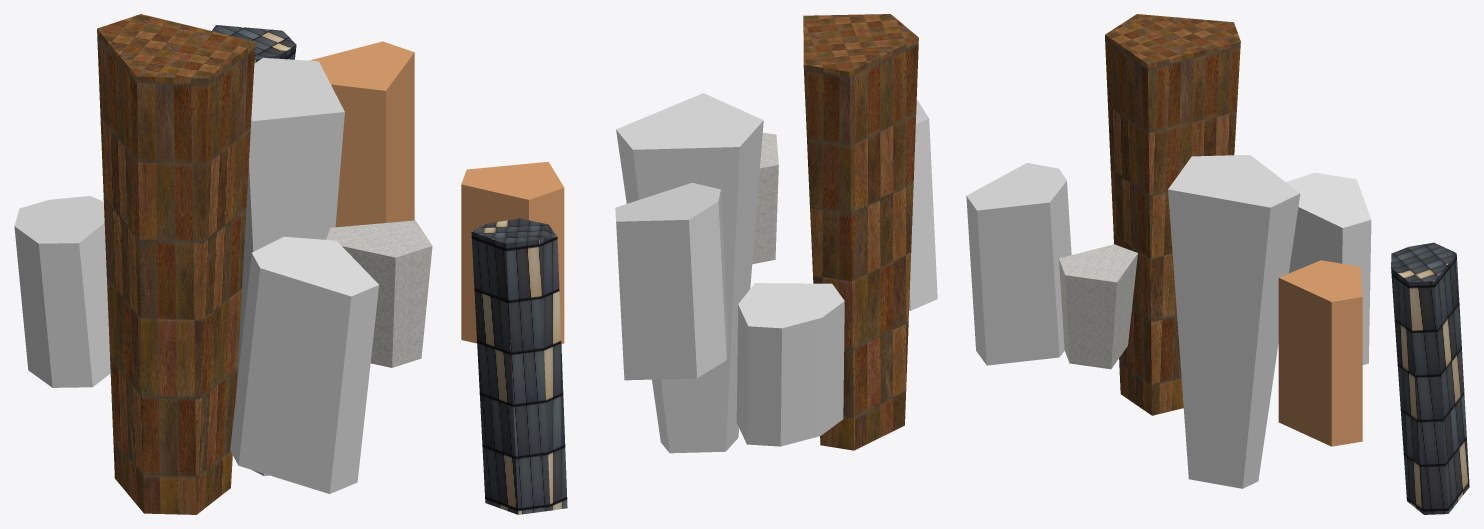
Rendered from plates.glb.
The picture shows the model from 3 angles, left to right: view 1: azimuth 30°, elevation 25°; view 2: azimuth 150°, elevation 25°; view 3: azimuth 270°, elevation 25°; orthographic projection. The views are drawn at different scales.
Visible parts, largest first — view 1: 平面.009, 平面.013, 平面.008, 平面.011, 平面.012, 平面.014, 平面.015; view 2: 平面.009, 平面.015, 平面.008, 平面.010, 平面.011, 平面.012, 平面.013, 平面.014; view 3: 平面.008, 平面.009, 平面.013, 平面.015, 平面.012, 平面.014, 平面.010.
Boxes of the visible parts, box(x1,y1,x2,y2) form: 平面.009: box(97, 14, 255, 514); 平面.013: box(230, 236, 378, 493); 平面.008: box(236, 58, 344, 476); 平面.011: box(14, 196, 110, 387); 平面.012: box(310, 41, 414, 227); 平面.014: box(326, 220, 432, 367); 平面.015: box(212, 25, 296, 63); 平面.009: box(803, 14, 918, 450); 平面.015: box(471, 218, 567, 514); 平面.008: box(616, 93, 763, 453); 平面.010: box(615, 182, 729, 380); 平面.011: box(736, 283, 844, 446); 平面.012: box(461, 161, 564, 344); 平面.013: box(909, 99, 937, 310); 平面.014: box(752, 132, 778, 264); 平面.008: box(1168, 155, 1300, 488); 平面.009: box(1105, 14, 1240, 415); 平面.013: box(966, 163, 1071, 365); 平面.015: box(1391, 242, 1469, 514); 平面.012: box(1278, 260, 1362, 446); 平面.014: box(1059, 244, 1137, 369); 平面.010: box(1286, 172, 1371, 364).
Bounding box in the file's own units: 13.33 × 14.88 × 17.68.
4 materials, 3 textured.
